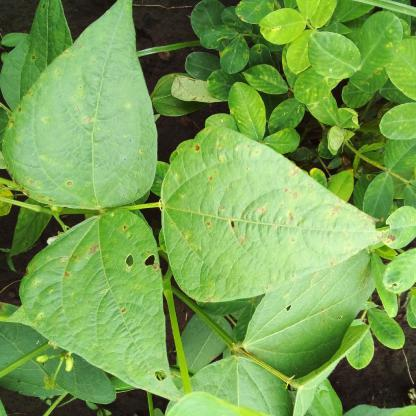Beans_Angular_LeafSpot: (160, 132, 395, 306), (0, 0, 156, 209), (17, 214, 187, 398)
